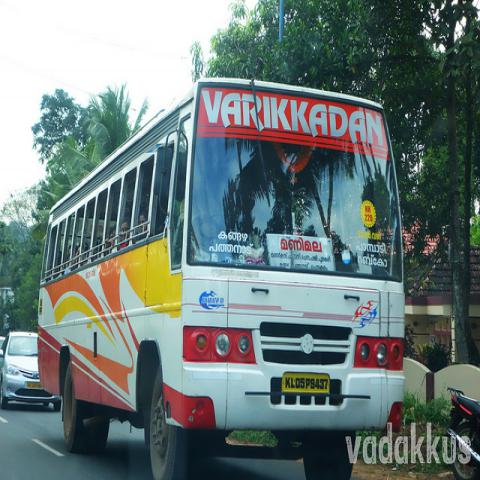bus: (39, 78, 406, 475)
car: (1, 331, 51, 415)
motorcycle: (447, 389, 479, 479)
